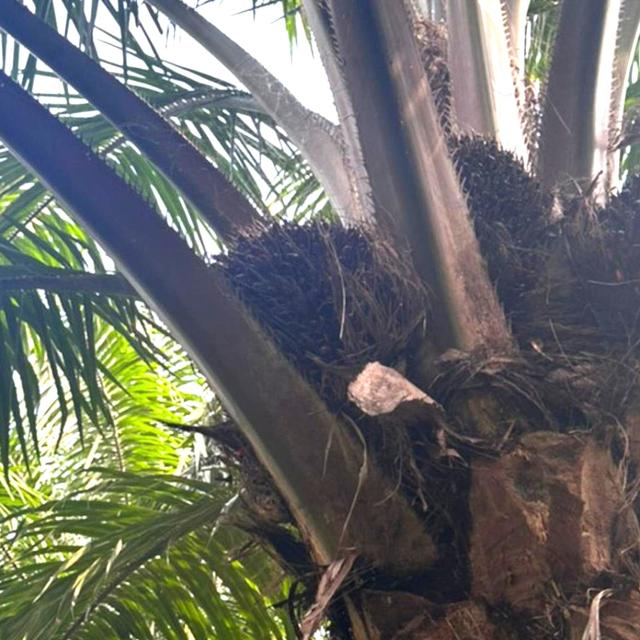ripe: (192, 194, 444, 414)
